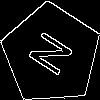N: (26, 29, 83, 84)
